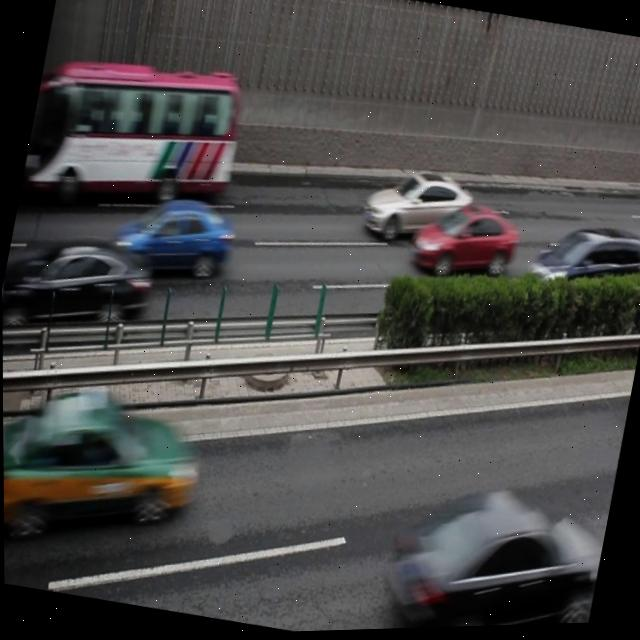car: (2, 375, 205, 561), (370, 470, 596, 631), (13, 227, 156, 343), (110, 188, 237, 289), (526, 217, 640, 312), (361, 164, 477, 255), (411, 195, 520, 284)
van: (38, 40, 249, 223)
